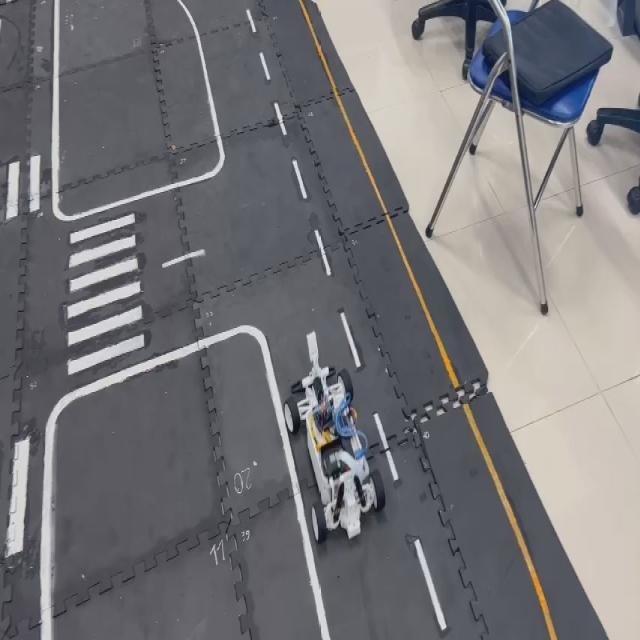SiCo-CAR: (282, 329, 386, 544)
